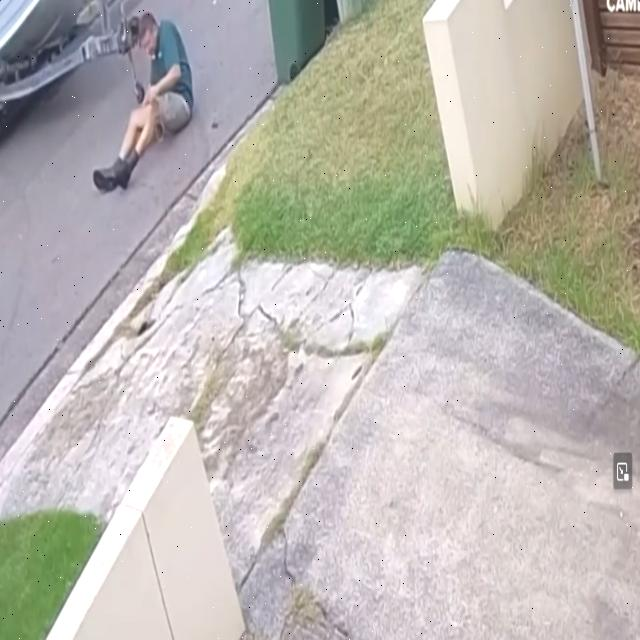fallen: (93, 12, 194, 189)
